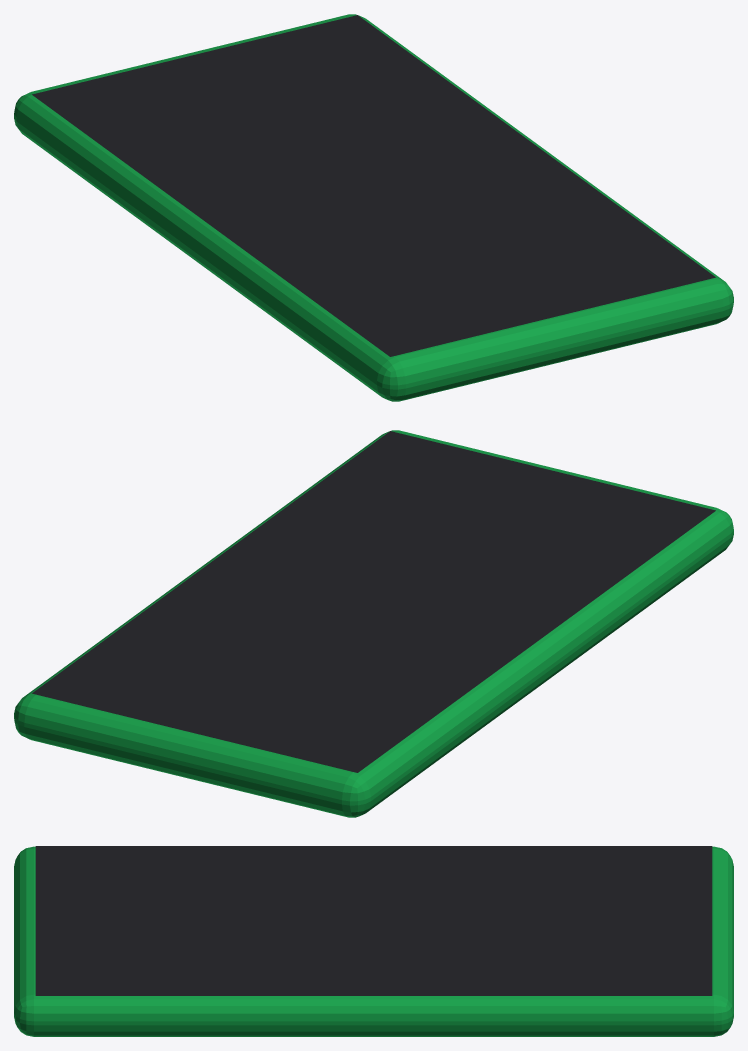
The model's file is Phone_732.glb.
The picture shows the model from 3 angles, top to bottom: view 1: azimuth 30°, elevation 25°; view 2: azimuth 150°, elevation 25°; view 3: azimuth 270°, elevation 25°; orthographic projection. The views are drawn at different scales.
Visible parts, largest first — view 1: Phone_Screen, Phone_Body; view 2: Phone_Screen, Phone_Body; view 3: Phone_Screen, Phone_Body.
Boxes of the visible parts, x1,y1,x2,y2 form: Phone_Screen: (32, 15, 715, 356); Phone_Body: (14, 14, 733, 401); Phone_Screen: (32, 431, 715, 772); Phone_Body: (14, 430, 733, 817); Phone_Screen: (35, 846, 712, 995); Phone_Body: (14, 846, 733, 1036).
Size of the model in its own units: 0.0769 by 0.009 by 0.1434.
